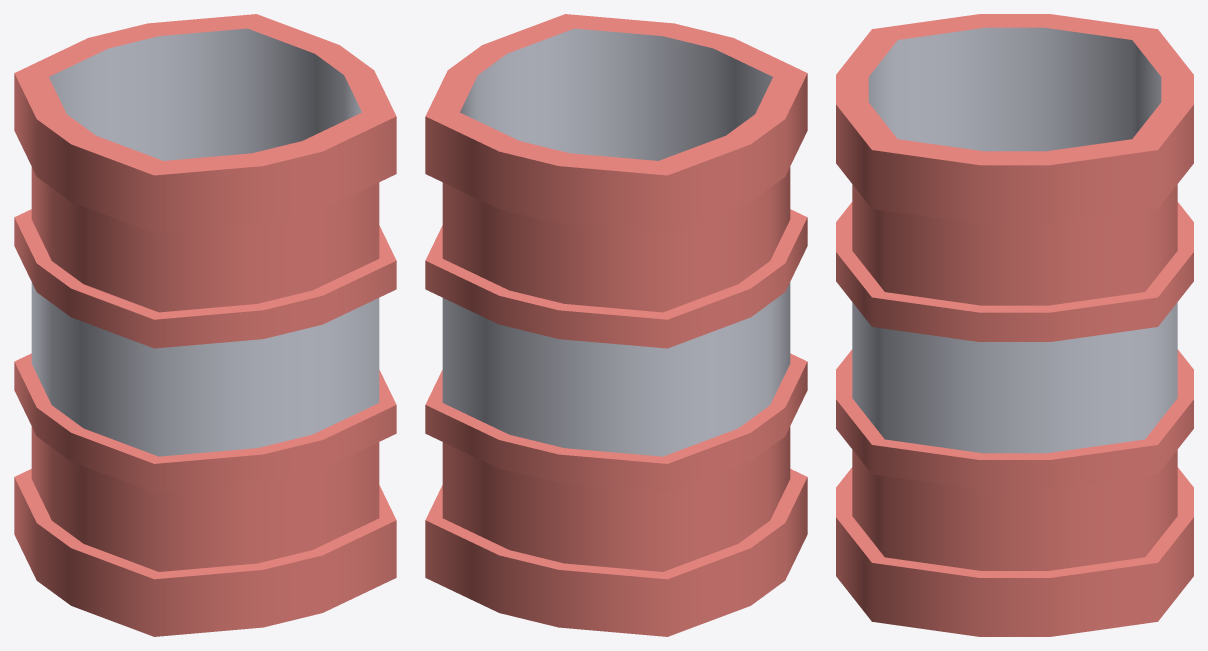
3 renders of one model, left to right at view 1: azimuth 30°, elevation 25°; view 2: azimuth 150°, elevation 25°; view 3: azimuth 270°, elevation 25°, orthographic. The views are drawn at different scales.
Visible parts, largest first — view 1: barrelOpen; view 2: barrelOpen; view 3: barrelOpen.
Boxes of the visible parts, <box> form: barrelOpen: <box>14,14,396,636</box>; barrelOpen: <box>425,14,807,636</box>; barrelOpen: <box>836,14,1193,636</box>.
Bounding box in the file's own units: 0.2365 × 0.344 × 0.2365.
